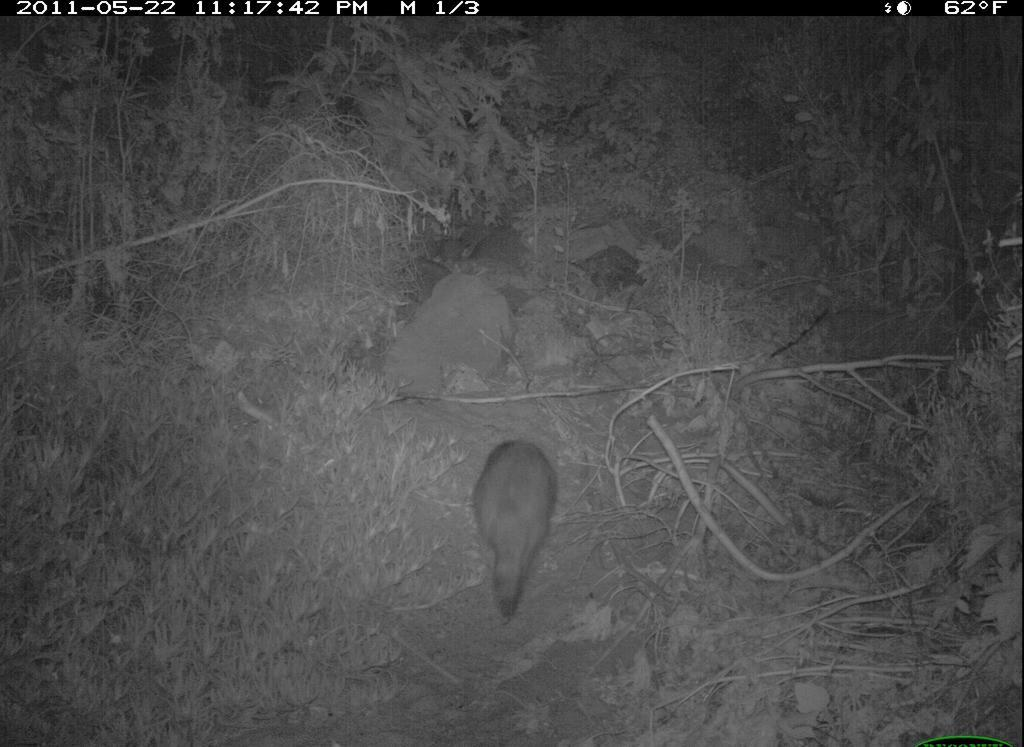raccoon: (460, 429, 568, 623)
